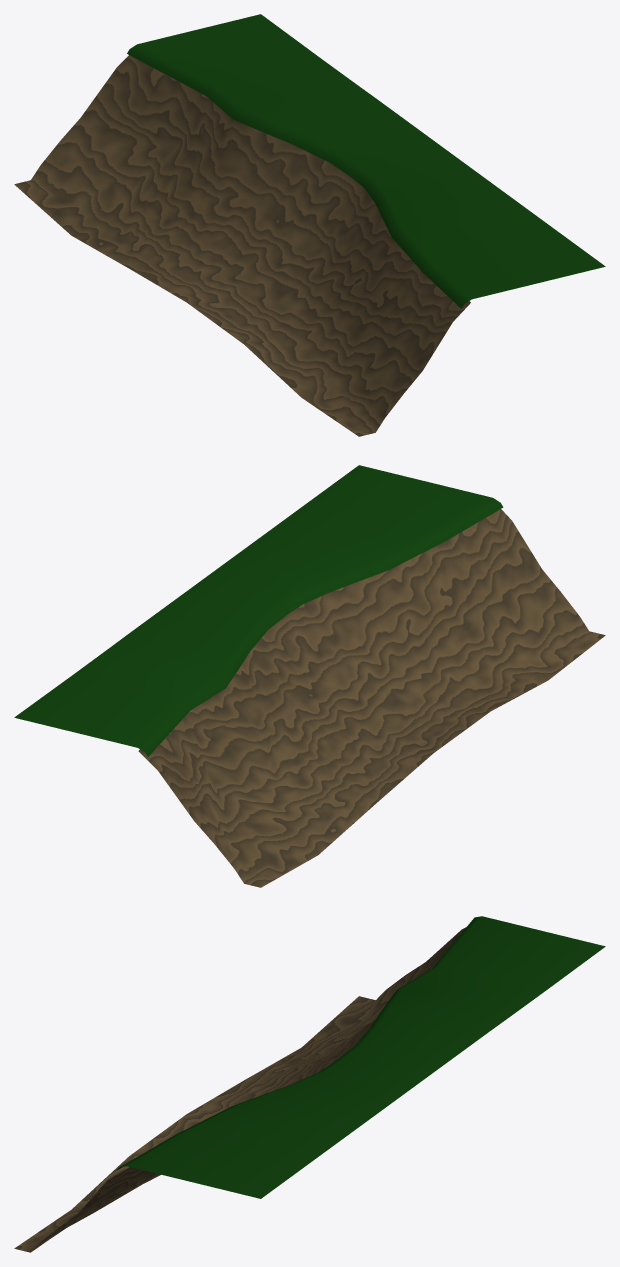
File: PlayerBeach.fbx
3 renders of one model, top to bottom at view 1: azimuth 30°, elevation 25°; view 2: azimuth 150°, elevation 25°; view 3: azimuth 330°, elevation 25°, orthographic.
Parts seen in each view (by area): view 1: Plane.017; view 2: Plane.017; view 3: Plane.017.
Boxes of the visible parts, x1=… form: Plane.017: x1=14, y1=14, x2=605, y2=436; Plane.017: x1=14, y1=465, x2=605, y2=887; Plane.017: x1=14, y1=916, x2=605, y2=1252.
Size of the model in its own units: 67.85 by 31.33 by 164.
